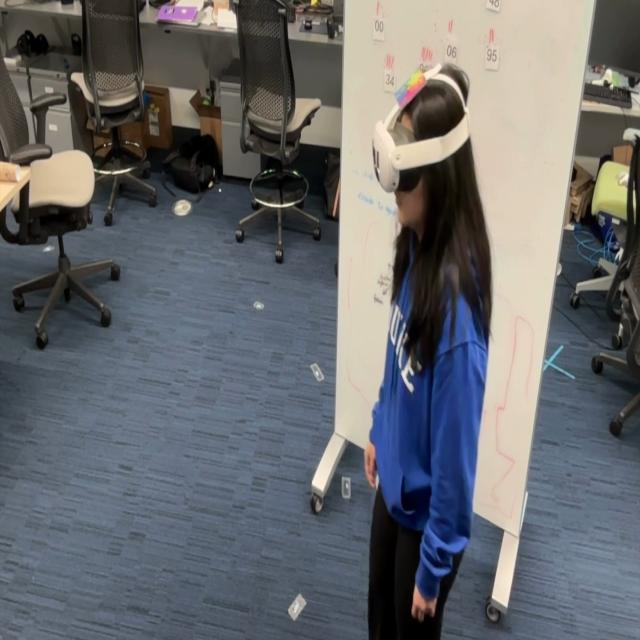Headset: (372, 63, 470, 193)
Marker: (392, 76, 428, 111)
